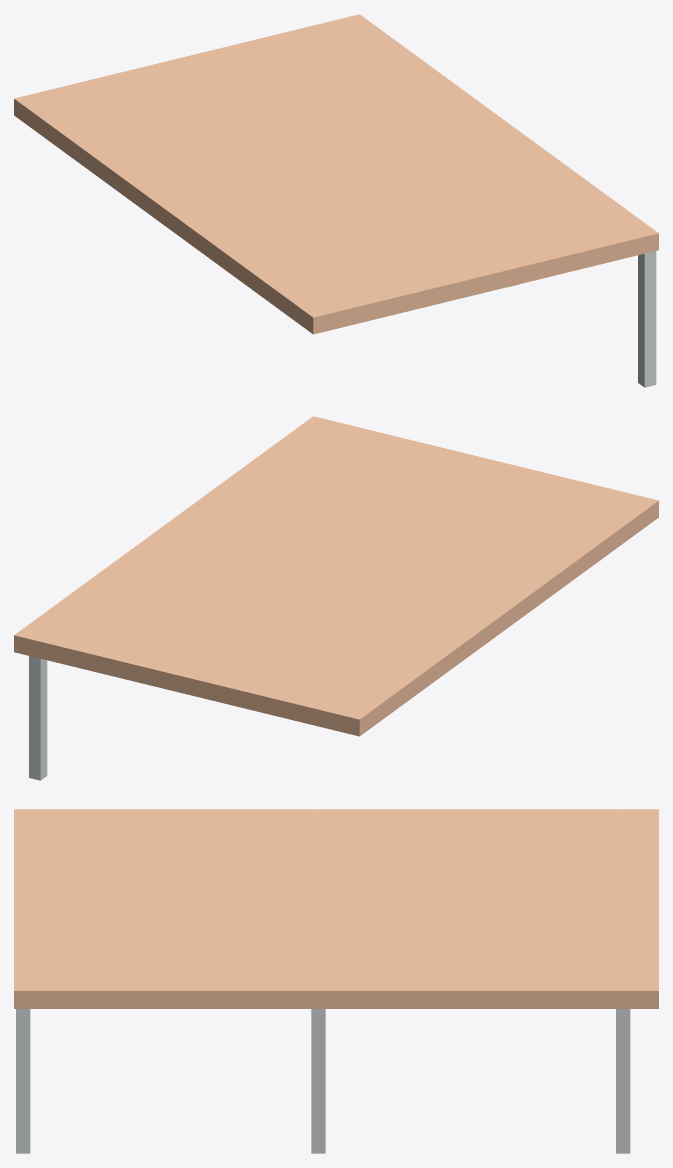
File: desk-row-d8.glb
3 views of the same model, one above another, from view 1: azimuth 30°, elevation 25°; view 2: azimuth 150°, elevation 25°; view 3: azimuth 270°, elevation 25° (orthographic). The views are drawn at different scales.
Parts seen in each view (by area): view 1: desktop, shared-corner-leg; view 2: desktop, shared-corner-leg; view 3: desktop, shared-corner-leg (×3).
Boxes of the visible parts, bbox=[...] form: desktop: bbox=[14, 14, 658, 334]; shared-corner-leg: bbox=[638, 251, 656, 387]; desktop: bbox=[14, 416, 658, 736]; shared-corner-leg: bbox=[29, 656, 47, 780]; desktop: bbox=[14, 809, 658, 1008]; shared-corner-leg (×3): bbox=[16, 1009, 630, 1153].
Bounding box in the file's own units: 3 × 1.26 × 4.5.
1 material, 1 textured.
